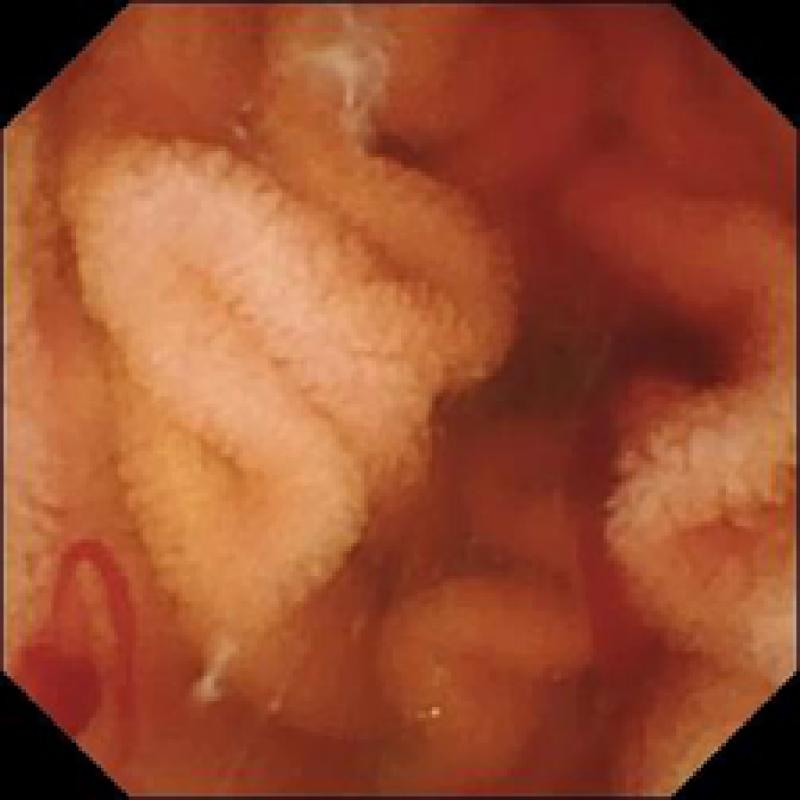bleeding: (23, 0, 793, 800)
